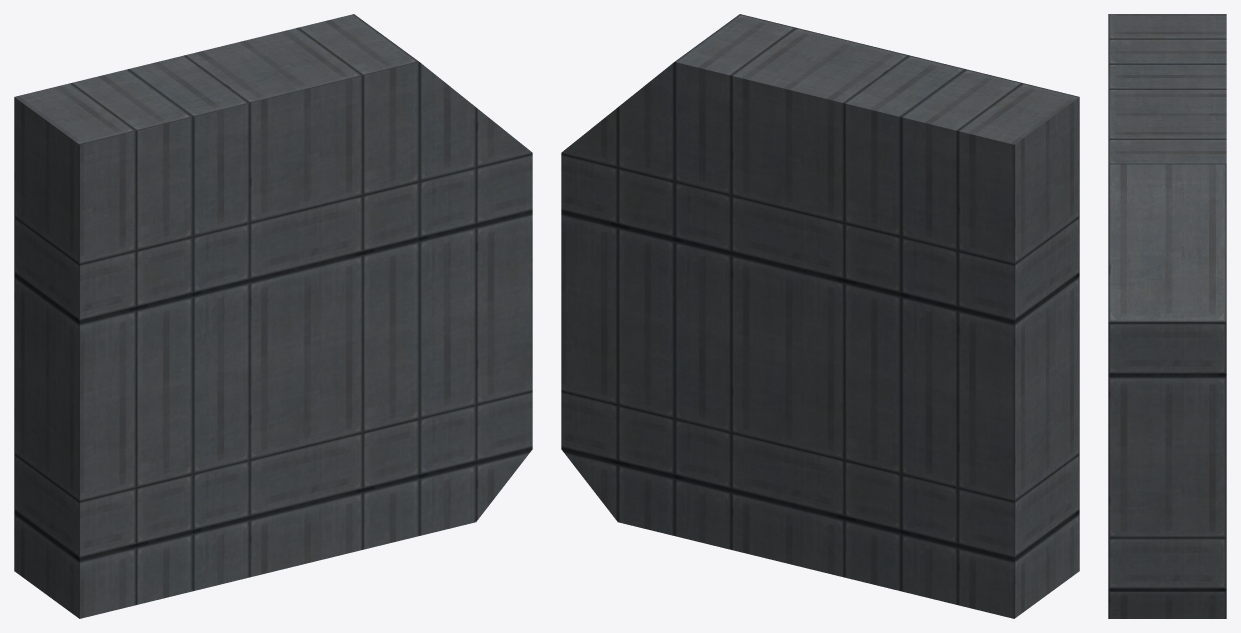
Rendered from Neon_TrailerEndCap_8x8_01.FBX.
The picture shows the model from 3 angles, left to right: view 1: azimuth 30°, elevation 25°; view 2: azimuth 150°, elevation 25°; view 3: azimuth 270°, elevation 25°; orthographic projection. The views are drawn at different scales.
Parts seen in each view (by area): view 1: Neon_TrailerEndCap_8x8_01; view 2: Neon_TrailerEndCap_8x8_01; view 3: Neon_TrailerEndCap_8x8_01.
Part boxes in pixels (box(x1,y1,x2,y2)): Neon_TrailerEndCap_8x8_01: box(14, 14, 532, 618); Neon_TrailerEndCap_8x8_01: box(561, 14, 1079, 618); Neon_TrailerEndCap_8x8_01: box(1108, 14, 1226, 618).
Size of the model in its own units: 8 by 8 by 2.
